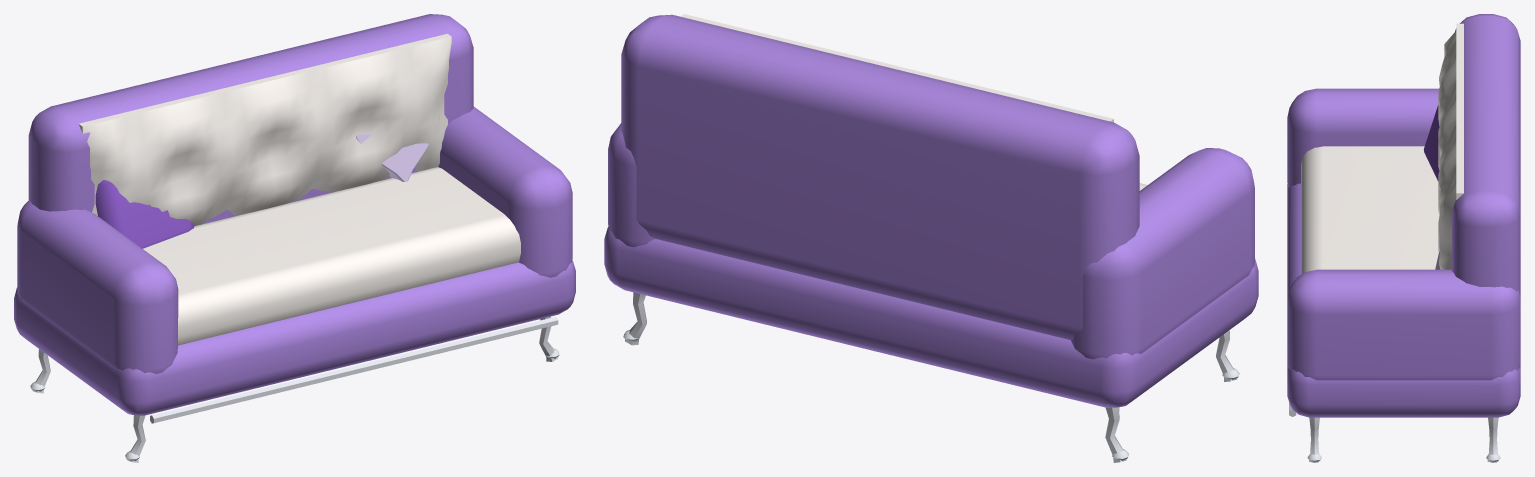
File: sofa_waiting_pearl.glb
The picture shows the model from 3 angles, left to right: view 1: azimuth 30°, elevation 25°; view 2: azimuth 150°, elevation 25°; view 3: azimuth 270°, elevation 25°; orthographic projection. The views are drawn at different scales.
Visible parts, largest first — view 1: sofa_waiting_pearl; view 2: sofa_waiting_pearl; view 3: sofa_waiting_pearl.
Part boxes in pixels (x1,y1,x2,y2): sofa_waiting_pearl: [14, 14, 575, 462]; sofa_waiting_pearl: [604, 14, 1258, 462]; sofa_waiting_pearl: [1287, 14, 1520, 462].
Bounding box in the file's own units: 1.8 × 1.06 × 0.85.
